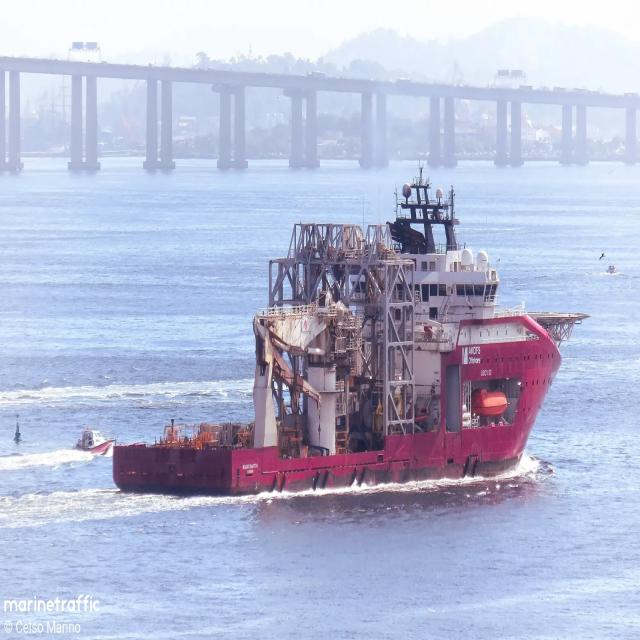Offshore: (113, 168, 588, 494)
